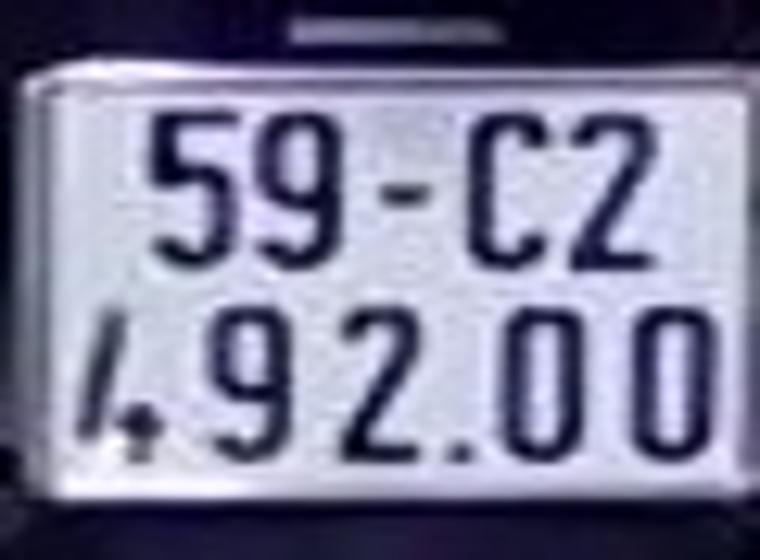-: (372, 179, 437, 211)
.: (445, 433, 477, 467)
0: (630, 306, 721, 468), (502, 305, 587, 464)
2: (566, 107, 656, 275), (334, 303, 425, 466)
4: (75, 301, 166, 471)
5: (145, 104, 241, 271)
9: (197, 298, 297, 471), (254, 107, 349, 277)
C: (463, 109, 553, 276)
